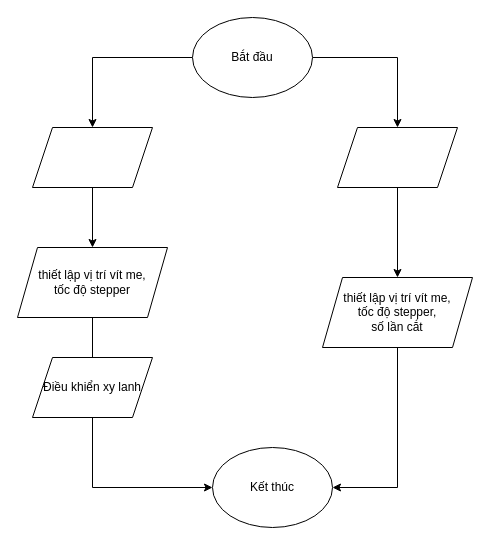
This 490x545 diagram has some shape labels left out. The centre of each missing label's shape, as x and y in pixels:
Tự động: the point at 397,157
Điều khiển bằng tay: the point at 92,157
